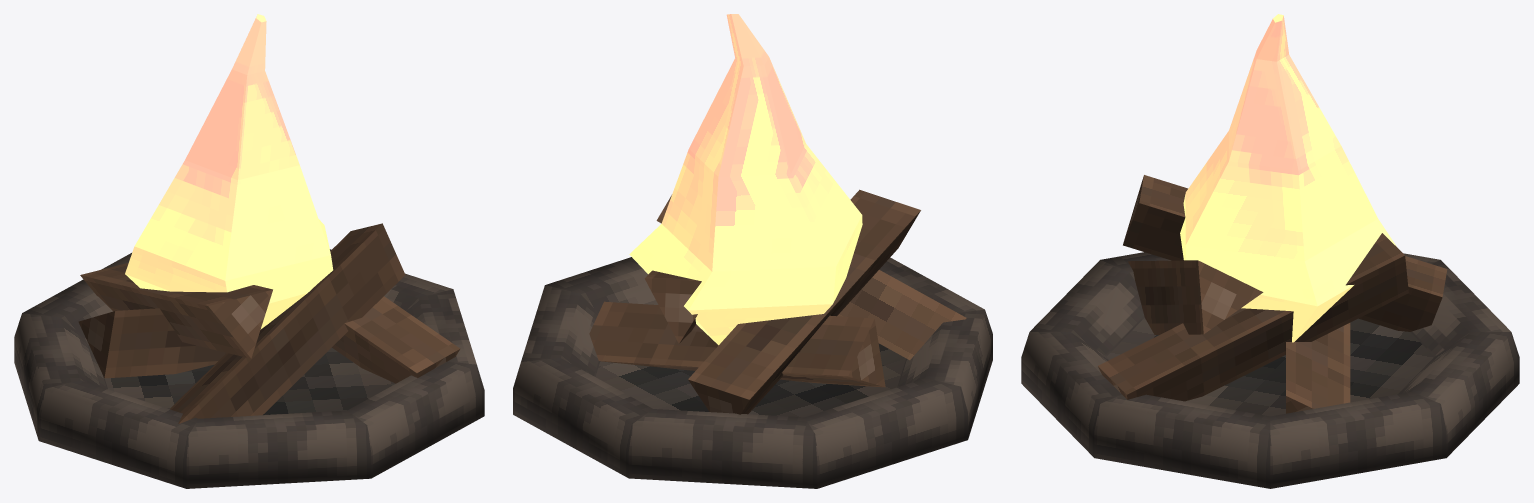
Rendered from Campfire.gltf.
3 renders of one model, left to right at view 1: azimuth 30°, elevation 25°; view 2: azimuth 150°, elevation 25°; view 3: azimuth 270°, elevation 25°, orthographic. The views are drawn at different scales.
Visible parts, largest first — view 1: Campfire; view 2: Campfire; view 3: Campfire.
Boxes of the visible parts, box(x1,y1,x2,y2) form: Campfire: box(14, 14, 484, 488); Campfire: box(513, 14, 992, 488); Campfire: box(1021, 14, 1519, 488).
Size of the model in its own units: 2 by 1.71 by 2.
Materials: 5 (5 with a texture image).
